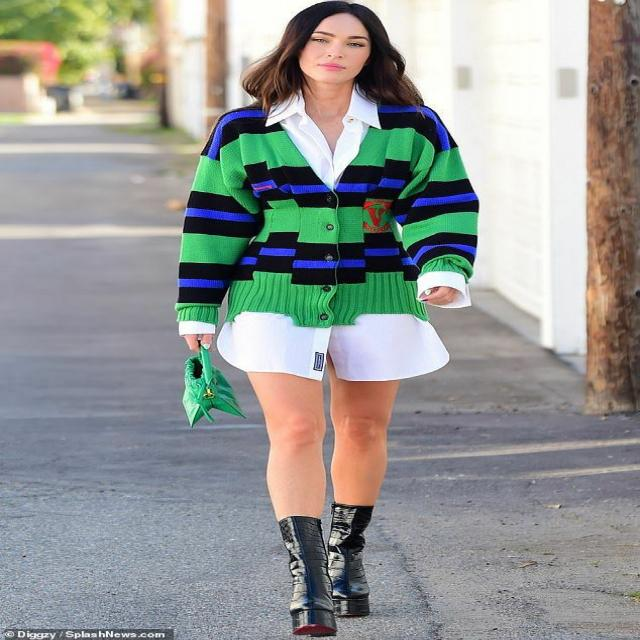female-dress: (166, 100, 494, 407)
